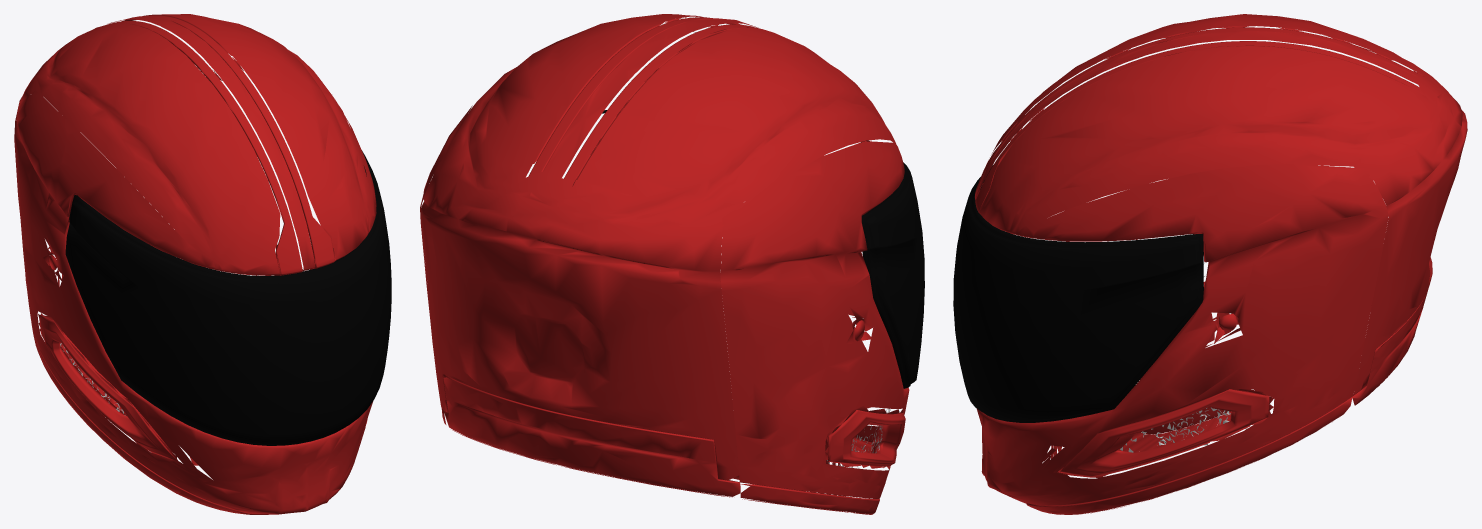
File: helmet-b-lod.glb
3 renders of one model, left to right at view 1: azimuth 30°, elevation 25°; view 2: azimuth 150°, elevation 25°; view 3: azimuth 270°, elevation 25°, orthographic. The views are drawn at different scales.
Visible parts, largest first — view 1: polySurface5_blinn1_0, polySurface4_blinn2_0, polySurface7_blinn1_0, polySurface1_blinn1_0; view 2: polySurface5_blinn1_0, polySurface4_blinn2_0, polySurface7_blinn1_0, polySurface1_blinn1_0; view 3: polySurface5_blinn1_0, polySurface4_blinn2_0, polySurface1_blinn1_0, polySurface7_blinn1_0, pCylinder21_lambert1_0.
Boxes of the visible parts, x1,y1,x2,y2 form: polySurface5_blinn1_0: (14,14,376,514); polySurface4_blinn2_0: (65,151,391,445); polySurface7_blinn1_0: (105,15,334,275); polySurface1_blinn1_0: (39,258,335,461); polySurface5_blinn1_0: (420,14,909,514); polySurface4_blinn2_0: (602,110,924,388); polySurface7_blinn1_0: (528,17,758,179); polySurface1_blinn1_0: (825,410,905,466); polySurface5_blinn1_0: (975,14,1467,514); polySurface4_blinn2_0: (953,165,1203,422); polySurface1_blinn1_0: (1057,254,1269,477); polySurface7_blinn1_0: (975,27,1424,214); pCylinder21_lambert1_0: (1120,276,1247,452).
Size of the model in its own units: 0.0753 by 0.0987 by 0.101.
